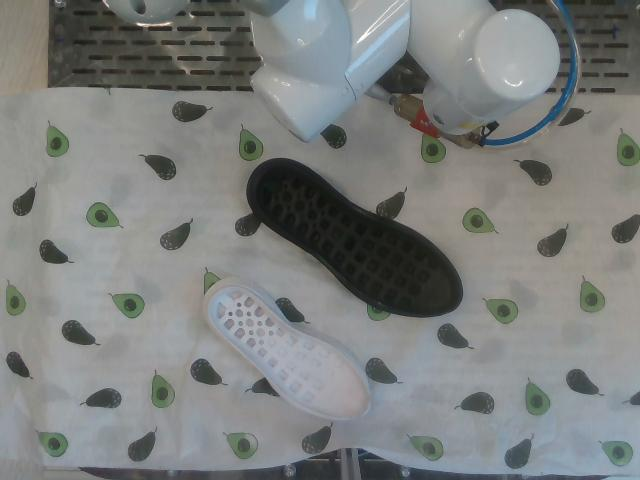shoes: (256, 165, 461, 315), (208, 287, 370, 418)
